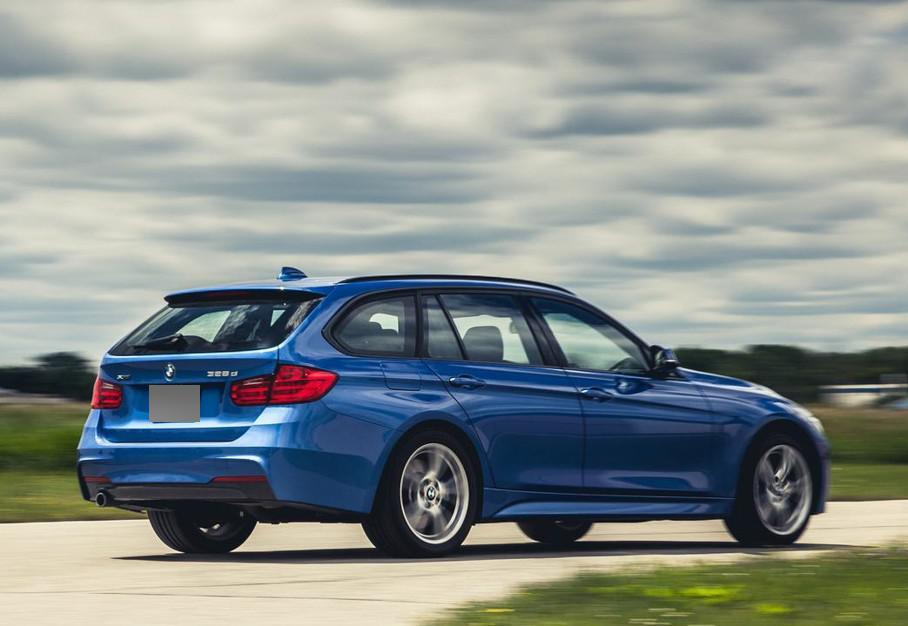Wagon: (78, 275, 830, 559)
